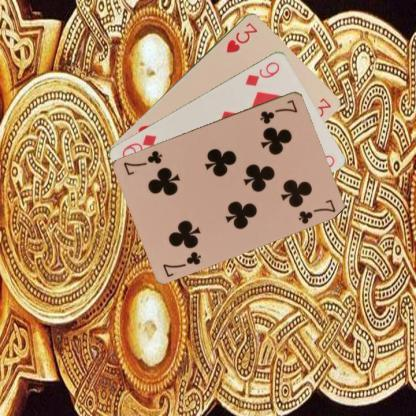3h: (223, 19, 259, 53)
7c: (160, 248, 203, 278), (257, 96, 299, 126)
9d: (243, 58, 281, 87)
